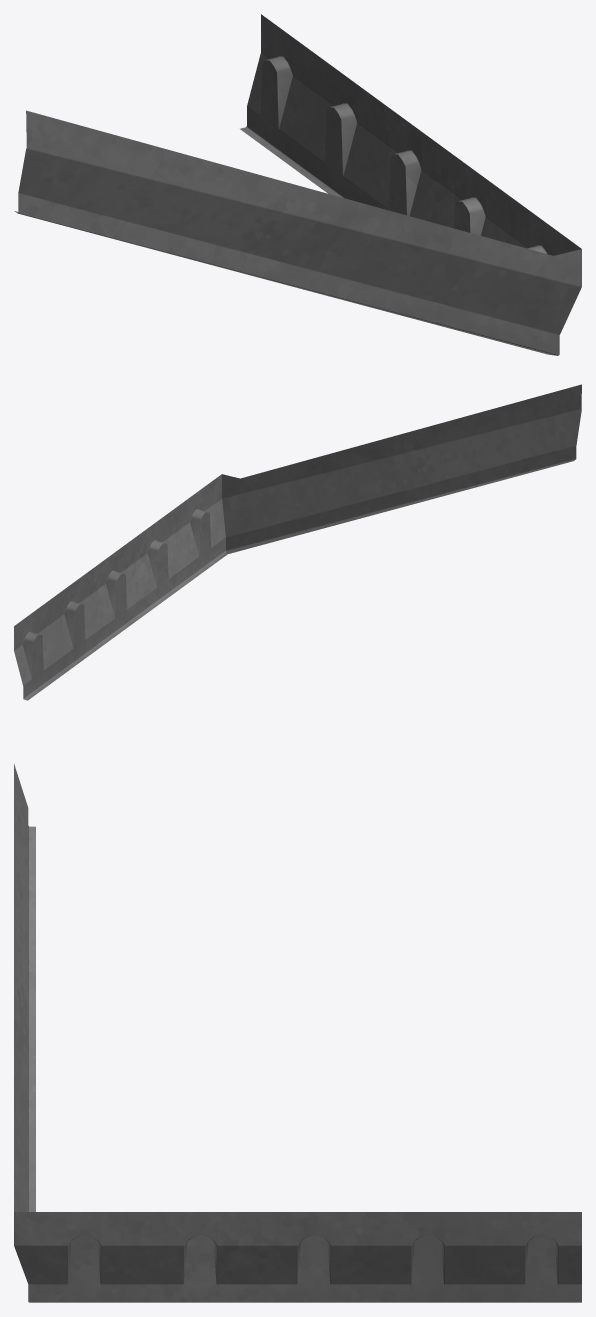
The model's file is TrimV3_Roof.fbx.
The picture shows the model from 3 angles, top to bottom: view 1: azimuth 30°, elevation 25°; view 2: azimuth 150°, elevation 25°; view 3: azimuth 270°, elevation 25°; orthographic projection. The views are drawn at different scales.
Visible parts, largest first — view 1: TrimV3_Roof; view 2: TrimV3_Roof; view 3: TrimV3_Roof.
Boxes of the visible parts, x1,y1,x2,y2 form: TrimV3_Roof: (14,14,581,355); TrimV3_Roof: (14,384,581,700); TrimV3_Roof: (14,764,581,1302).
Bounding box in the file's own units: 531 × 350 × 531.
Materials: 1 (1 with a texture image).
